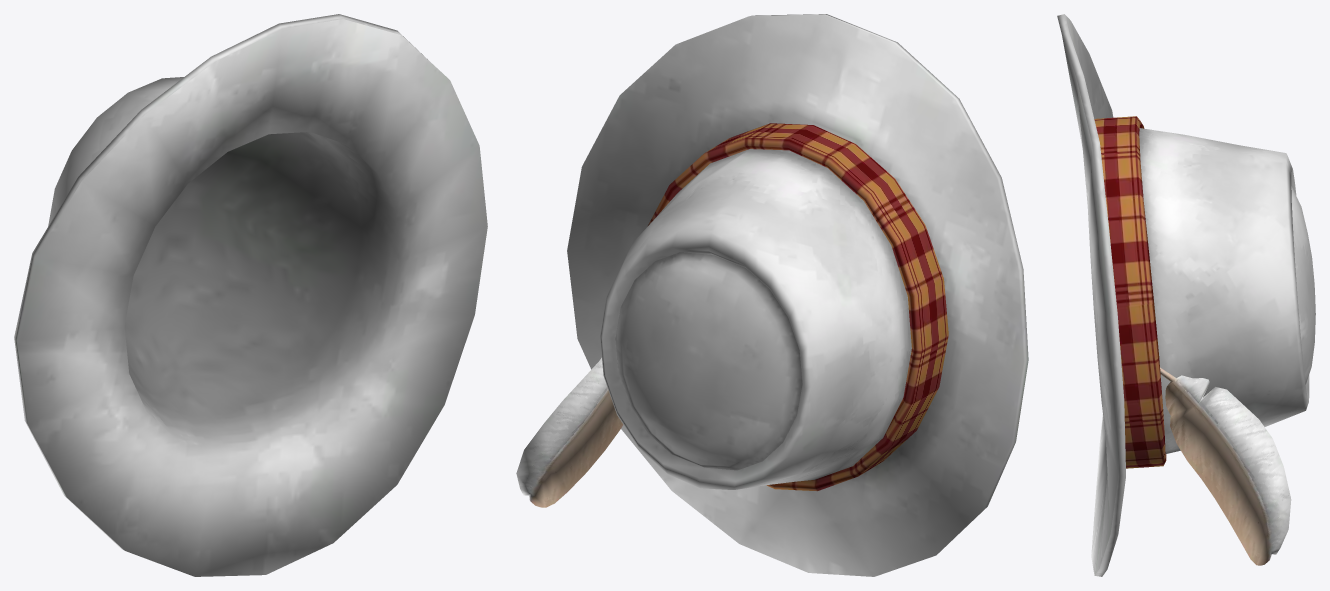
3 renders of one model, left to right at view 1: azimuth 30°, elevation 25°; view 2: azimuth 150°, elevation 25°; view 3: azimuth 270°, elevation 25°, orthographic. The views are drawn at different scales.
Visible parts, largest first — view 1: body0_model0_lod0_mesh0; view 2: body0_model0_lod0_mesh0; view 3: body0_model0_lod0_mesh0.
Part boxes in pixels (bbox=[...]): body0_model0_lod0_mesh0: bbox=[14, 14, 487, 576]; body0_model0_lod0_mesh0: bbox=[516, 14, 1028, 576]; body0_model0_lod0_mesh0: bbox=[1057, 14, 1315, 576].
Size of the model in its own units: 13.4 by 15.27 by 6.81.
1 material, 1 textured.
